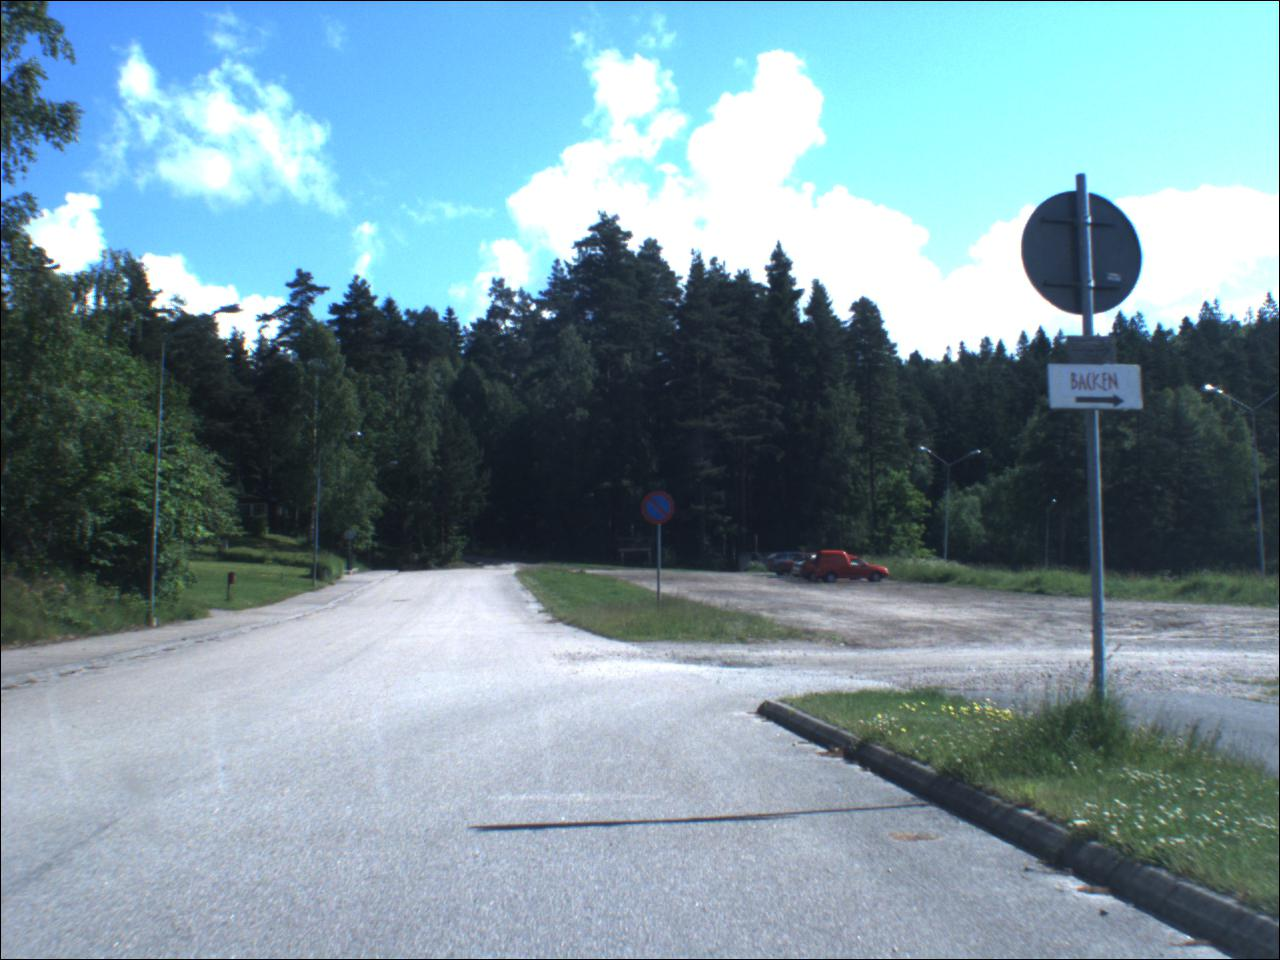NO_PARKING: (643, 492, 678, 529)
